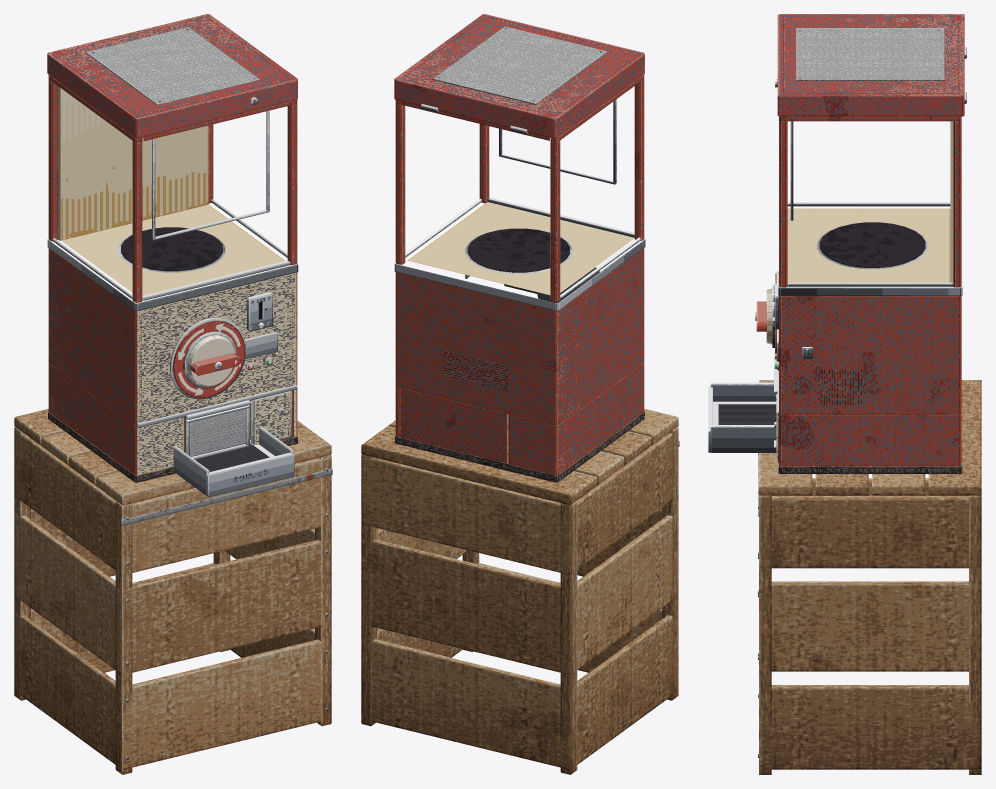
The model's file is retro.glb.
3 renders of one model, left to right at view 1: azimuth 30°, elevation 25°; view 2: azimuth 150°, elevation 25°; view 3: azimuth 270°, elevation 25°, orthographic. The views are drawn at different scales.
Visible parts, largest first — view 1: stand, body, lid, crank, flap, drawer; view 2: stand, body, lid; view 3: stand, body, lid, crank.
Boxes of the visible parts, x1,y1,x2,y2 form: stand: [14, 409, 332, 774]; body: [47, 75, 298, 497]; lid: [47, 14, 297, 138]; crank: [183, 331, 240, 388]; flap: [186, 405, 249, 456]; drawer: [250, 391, 290, 444]; stand: [361, 408, 679, 774]; body: [394, 74, 645, 482]; lid: [394, 14, 644, 138]; stand: [758, 380, 981, 774]; body: [708, 116, 962, 473]; lid: [775, 14, 966, 116]; crank: [755, 285, 774, 347].
Bounding box in the file's own units: 0.442 × 1.3 × 0.479.
6 materials, 6 textured.
